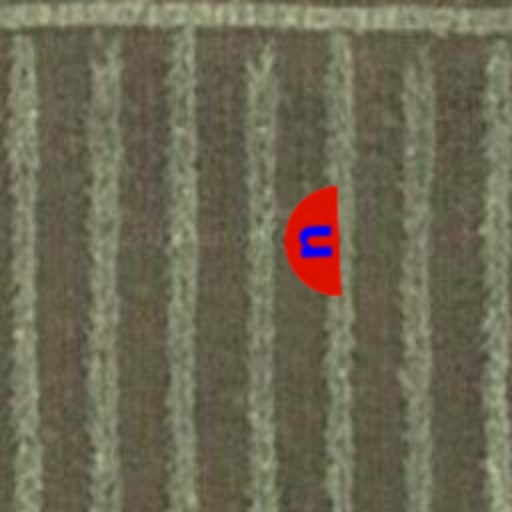semicircle: (254, 184, 370, 300)
